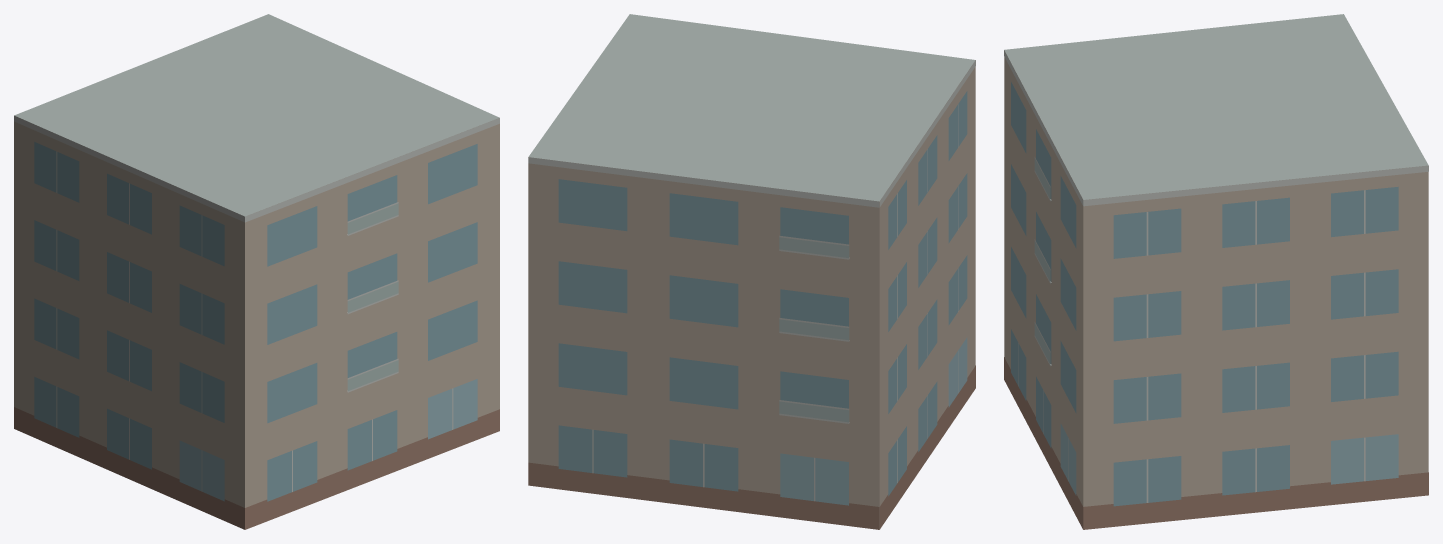
The model's file is survey-upis-32981526.glb.
The picture shows the model from 3 angles, left to right: view 1: azimuth 30°, elevation 25°; view 2: azimuth 150°, elevation 25°; view 3: azimuth 270°, elevation 25°; orthographic projection. The views are drawn at different scales.
Visible parts, largest first — view 1: survey-upis-32981526.tmp; view 2: survey-upis-32981526.tmp; view 3: survey-upis-32981526.tmp.
Boxes of the visible parts, <box> form: survey-upis-32981526.tmp: <box>14,14,499,529</box>; survey-upis-32981526.tmp: <box>528,14,975,529</box>; survey-upis-32981526.tmp: <box>1004,14,1428,529</box>.
Size of the model in its own units: 15.49 by 12.8 by 14.94.
